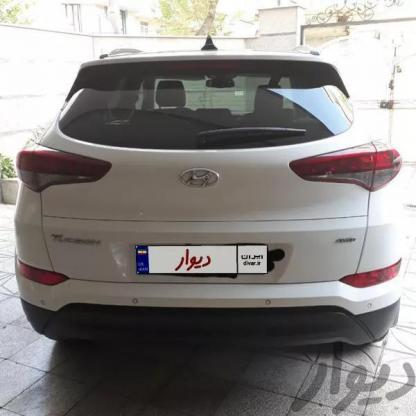Car: (0, 44, 416, 350)
